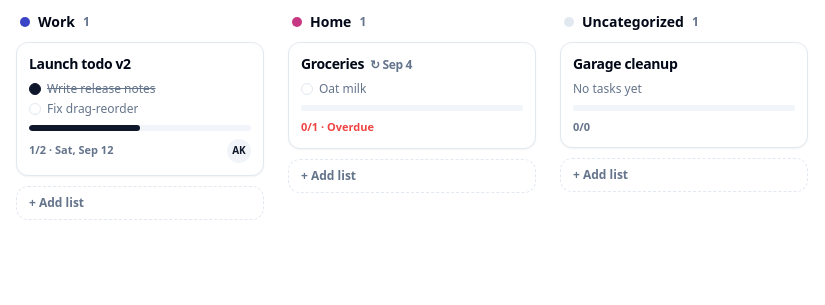
Board add-list form › names each column add-list input after its own column
Click the button "+ Add list" below "· Sat, Sep 12": (140, 202) [16,186,264,220]
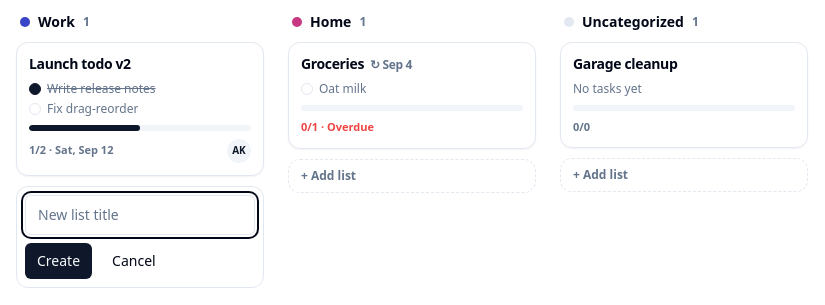
Expected: the field named "Add a list to Work" is shown, [25,194,255,234]
